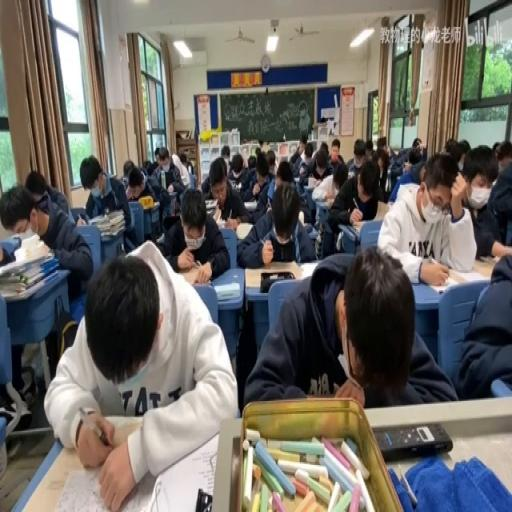calculator: (54, 462, 154, 511), (244, 263, 305, 289), (419, 266, 468, 290), (177, 260, 206, 283), (294, 258, 324, 280), (312, 196, 332, 225), (214, 282, 240, 300), (373, 198, 389, 219), (234, 222, 252, 240), (13, 226, 36, 240), (138, 196, 158, 209), (204, 196, 218, 212), (348, 219, 363, 233), (477, 253, 497, 263), (305, 175, 319, 188), (242, 199, 258, 209), (213, 206, 222, 222), (179, 174, 190, 186), (74, 215, 86, 226), (155, 232, 164, 243), (166, 185, 178, 193), (192, 281, 211, 286), (293, 174, 302, 184), (390, 147, 399, 155)
paper: (48, 239, 237, 509), (243, 240, 454, 406), (378, 151, 478, 277), (0, 176, 91, 302), (451, 250, 512, 400), (236, 176, 315, 264), (160, 185, 229, 281), (325, 155, 385, 253), (83, 152, 135, 250), (485, 144, 512, 248), (150, 145, 184, 212), (426, 140, 464, 184), (290, 136, 314, 175), (372, 145, 390, 195), (328, 142, 347, 179), (226, 150, 246, 184), (124, 168, 146, 198), (388, 152, 406, 185), (200, 160, 216, 194), (275, 161, 293, 182), (0, 240, 15, 264), (352, 141, 366, 165), (266, 150, 276, 180), (178, 150, 190, 174), (315, 152, 328, 174), (406, 146, 421, 165), (375, 134, 387, 152), (458, 139, 470, 155), (122, 160, 134, 176), (141, 158, 153, 173), (260, 138, 270, 154), (364, 139, 373, 155), (220, 145, 229, 161), (456, 155, 466, 169), (247, 155, 256, 169), (411, 136, 421, 148), (420, 142, 426, 160), (254, 145, 262, 158), (154, 145, 160, 162), (491, 141, 501, 151), (300, 135, 307, 149), (121, 175, 128, 186), (253, 139, 260, 148), (332, 147, 339, 155)
person: (374, 420, 452, 460), (194, 488, 211, 509)
